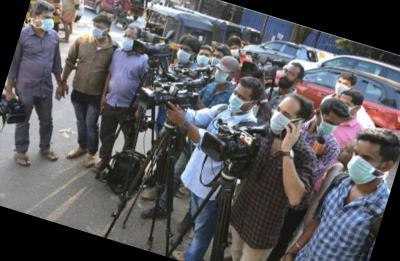with_mask: (343, 147, 385, 191), (269, 105, 300, 139), (227, 89, 256, 118), (315, 117, 340, 140), (34, 11, 57, 33), (175, 45, 195, 66), (89, 22, 109, 42), (120, 33, 139, 53), (212, 68, 231, 88), (333, 79, 352, 99), (209, 53, 225, 71), (195, 50, 211, 67), (226, 45, 242, 58)
without_mask: (277, 68, 300, 91), (337, 143, 356, 166)
